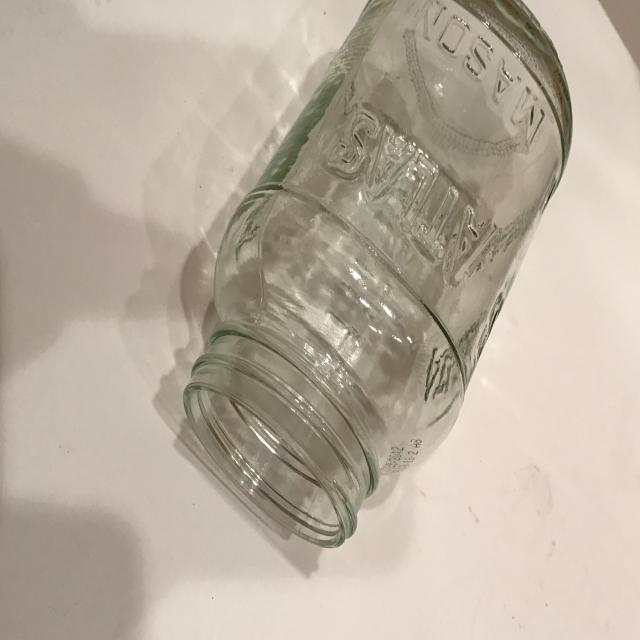glass: (182, 1, 574, 549)
